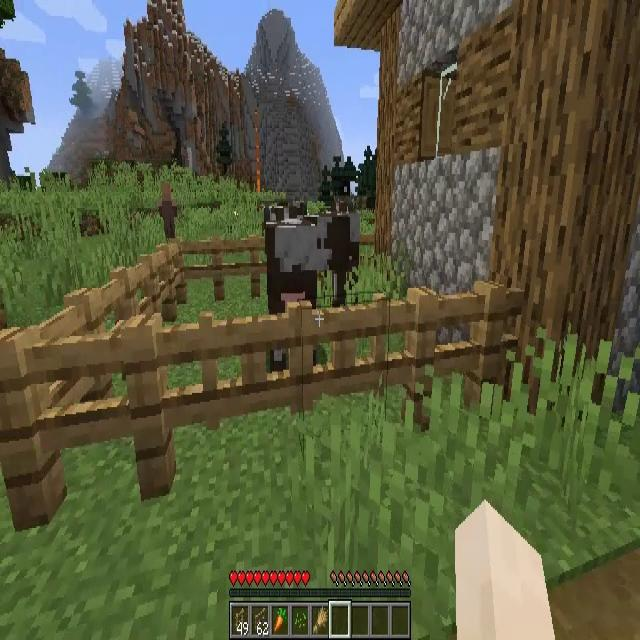cow: (266, 208, 349, 369)
